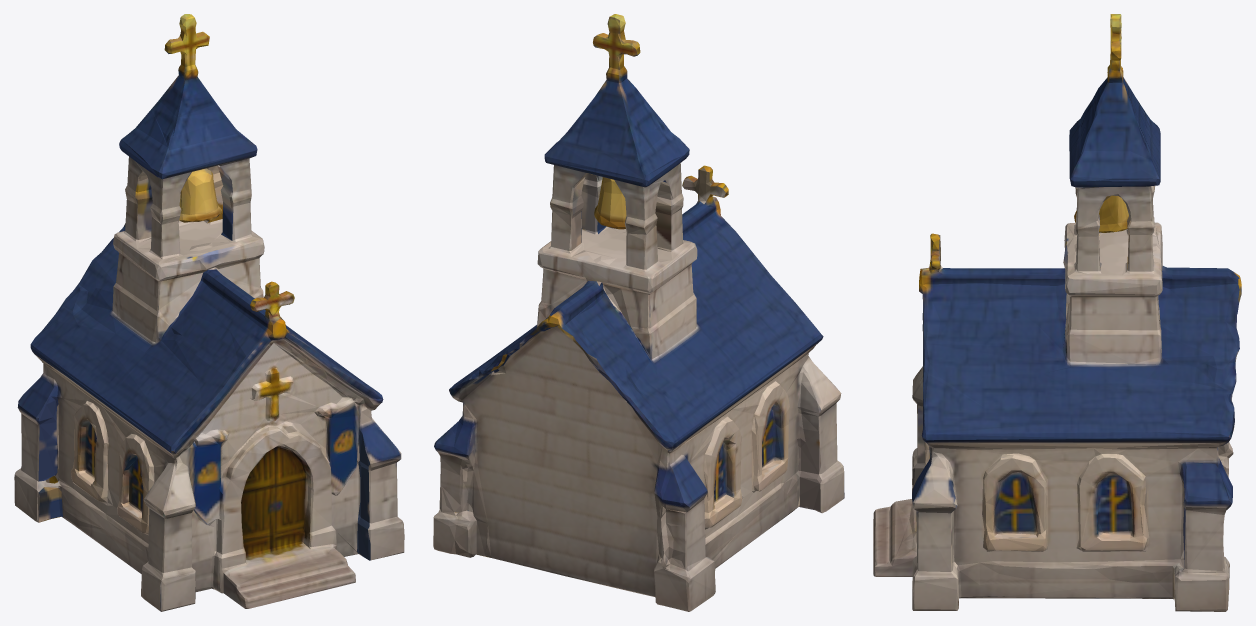
The model's file is kingdom_chapel_1117.glb.
3 renders of one model, left to right at view 1: azimuth 30°, elevation 25°; view 2: azimuth 150°, elevation 25°; view 3: azimuth 270°, elevation 25°, orthographic. The views are drawn at different scales.
Parts seen in each view (by area): view 1: tmpyvsxdqov.ply; view 2: tmpyvsxdqov.ply; view 3: tmpyvsxdqov.ply.
Boxes of the visible parts, x1,y1,x2,y2 form: tmpyvsxdqov.ply: [14, 14, 404, 611]; tmpyvsxdqov.ply: [433, 14, 844, 611]; tmpyvsxdqov.ply: [873, 14, 1241, 611].
Bounding box in the file's own units: 1.02 × 1.99 × 1.25.
Materials: 1 (1 with a texture image).
